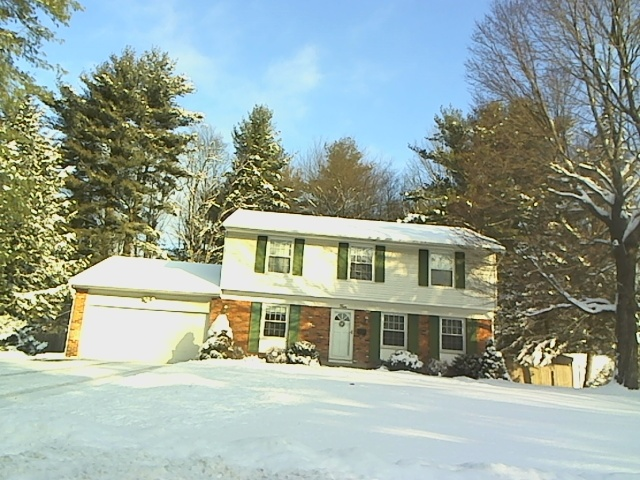Unploughed: (3, 351, 170, 394), (329, 308, 360, 429)
